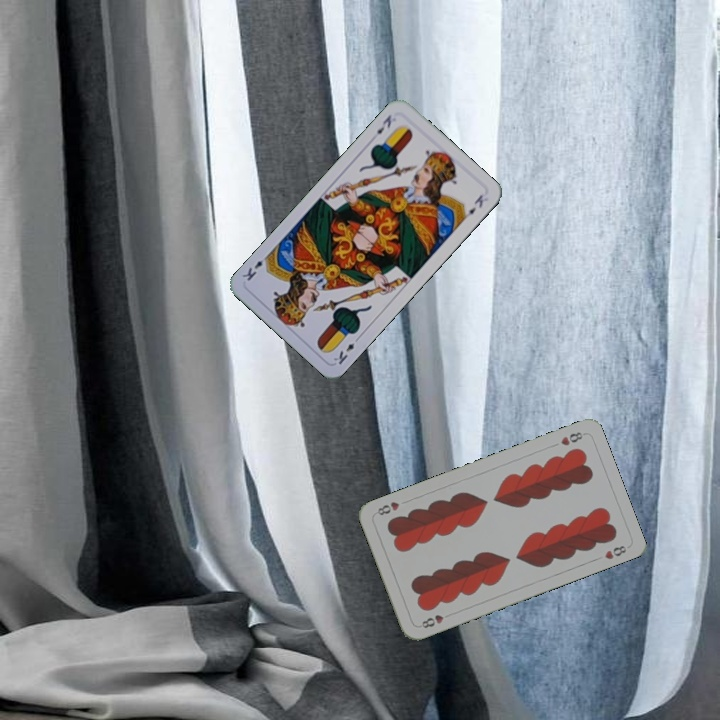EK: (329, 332, 363, 367), (372, 110, 394, 137)
H8: (418, 609, 454, 631), (556, 428, 587, 448)
